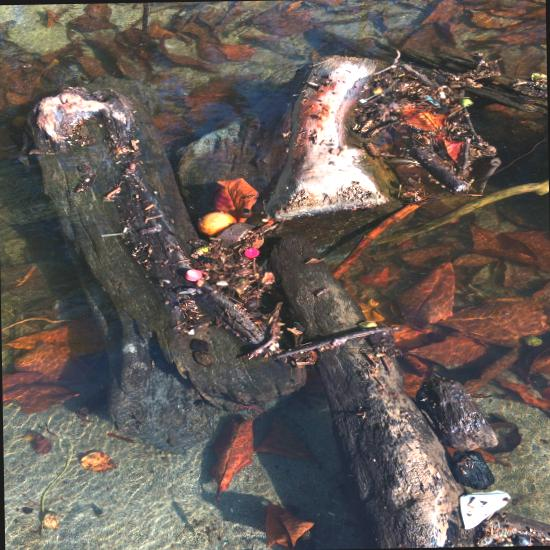Other plastic bottle: (459, 490, 510, 529), (423, 96, 439, 105)
Plastic bottle cap: (185, 269, 201, 281), (244, 248, 259, 259)
